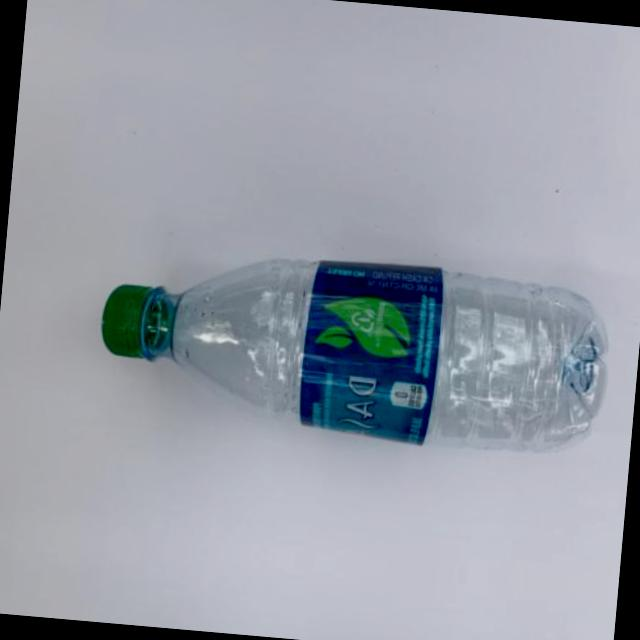Plastic: (53, 194, 640, 489)
